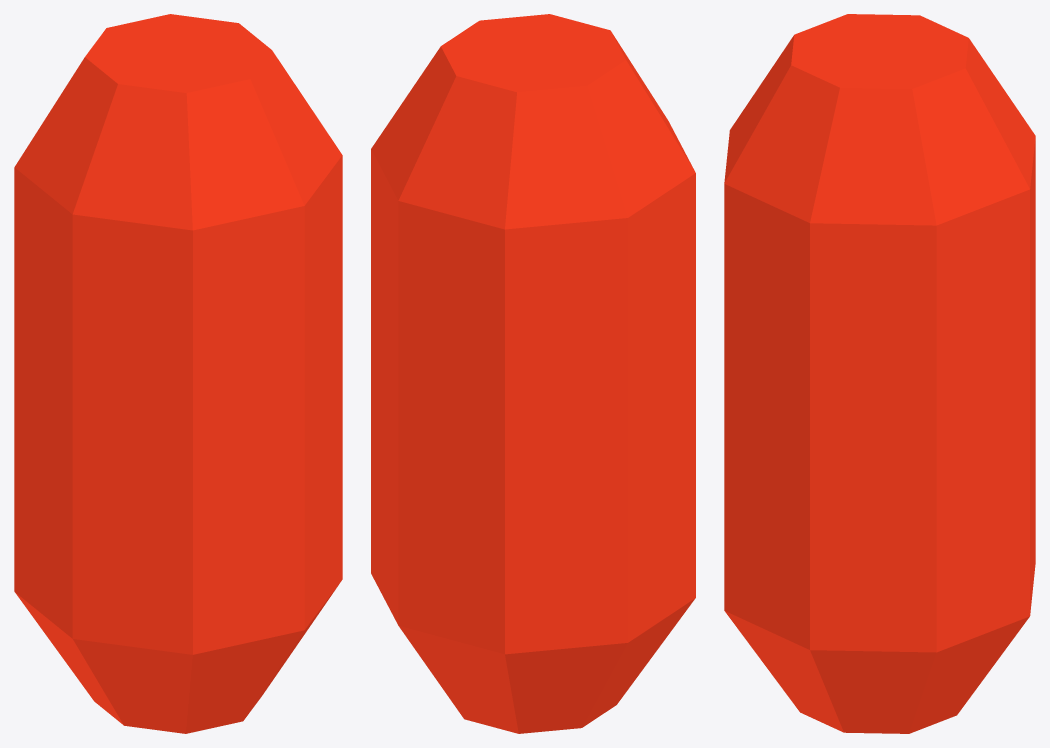
The model's file is mining_PP_Crystal_02_Red.gltf.
3 renders of one model, left to right at view 1: azimuth 30°, elevation 25°; view 2: azimuth 150°, elevation 25°; view 3: azimuth 270°, elevation 25°, orthographic.
Visible parts, largest first — view 1: PP_Crystal_02_Red; view 2: PP_Crystal_02_Red; view 3: PP_Crystal_02_Red.
Part boxes in pixels (x1=…): PP_Crystal_02_Red: x1=14, y1=14, x2=342, y2=733; PP_Crystal_02_Red: x1=371, y1=14, x2=695, y2=733; PP_Crystal_02_Red: x1=724, y1=14, x2=1035, y2=733.
Bounding box in the file's own units: 0.2061 × 0.4739 × 0.2062.
1 material, 1 textured.
